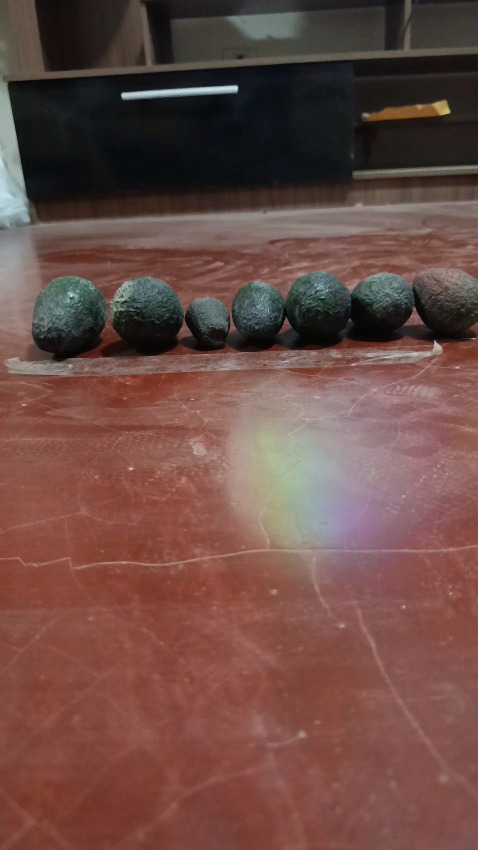Primera: (30, 275, 108, 355), (110, 275, 184, 347), (285, 271, 351, 341)
Segunda: (411, 267, 476, 337), (349, 271, 416, 337), (230, 279, 286, 343)
Tercera: (184, 296, 230, 349)
